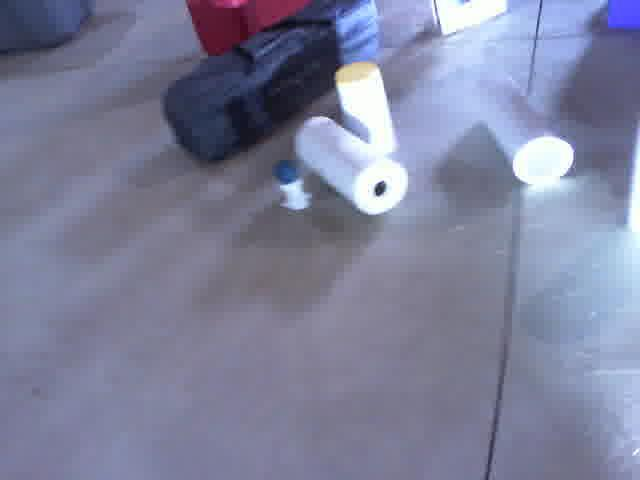coral: (465, 69, 579, 182)
